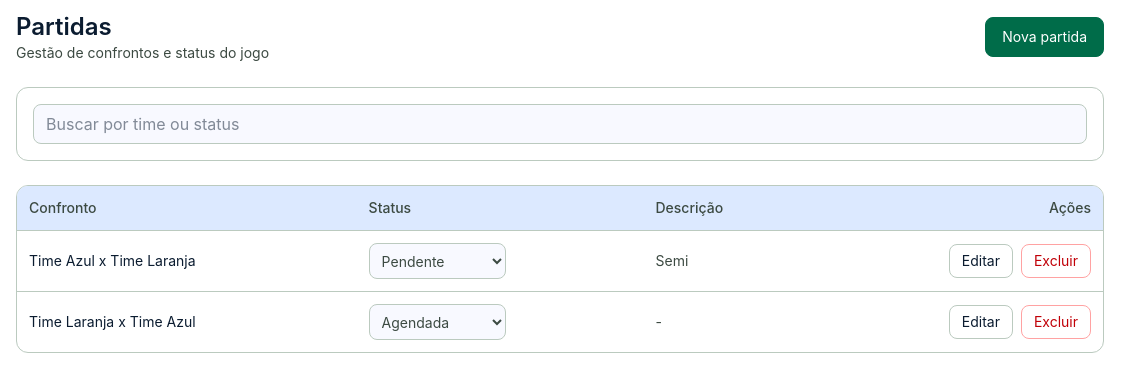
Test: MatchesPage › deve renderizar lista e filtro
The image size is (1121, 370).
Check: the text "Time Azul x Time Laranja" is shown, box [17,230,357,292]
Check: the text "Time Laranja x Time Azul" is shown, box [17,292,357,352]
Type "scheduled" into the field with placeholder "Buscar por time ou status" at (560, 124), box [33,104,1087,144]
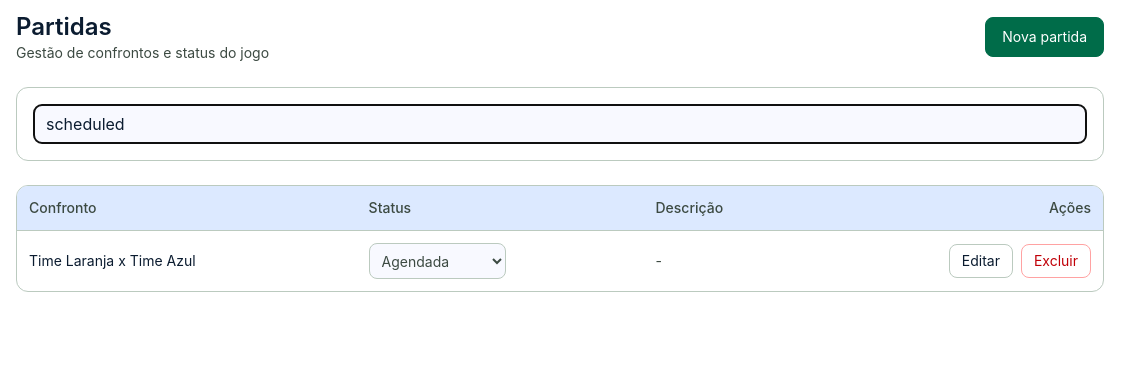
Check: the text "Time Laranja x Time Azul" is shown, box [17,230,357,291]
Check: the text "Time Azul x Time Laranja" is gone
